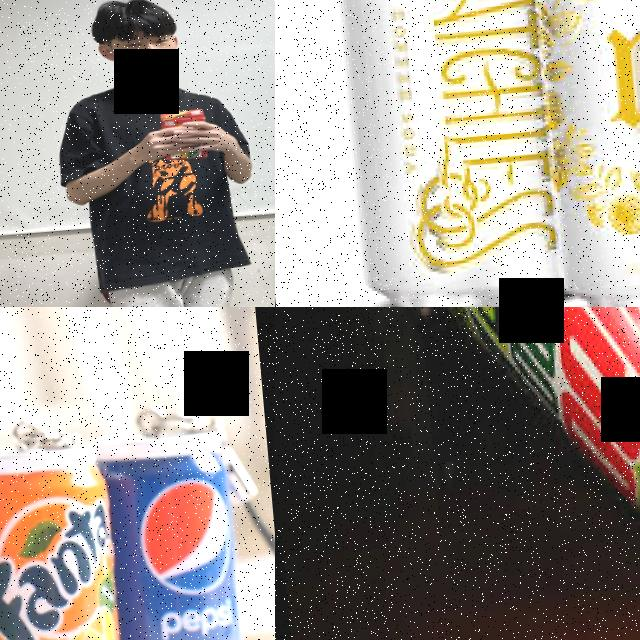can: (322, 0, 590, 307), (391, 307, 640, 608), (521, 0, 640, 307), (93, 420, 253, 640), (0, 437, 132, 640)
